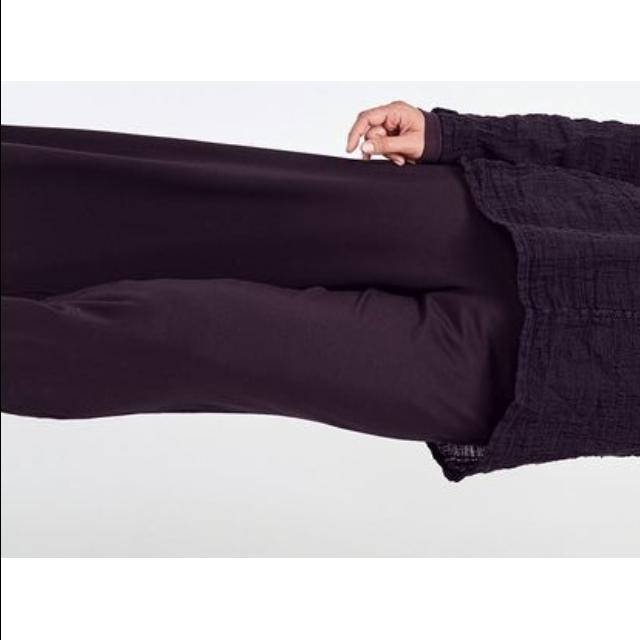linen: (514, 116, 640, 518)
